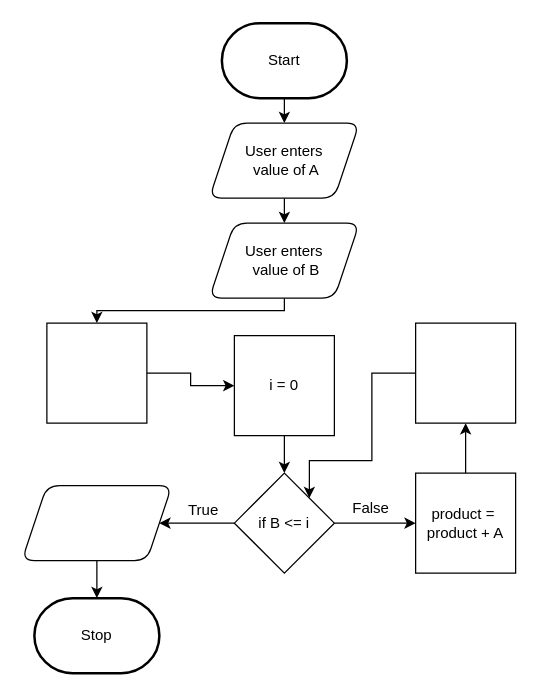
Some shapes in this 538 by 695 pixel diagram are drawn without their labels. Here are the shapes that lost their labels. From the top down, the centre of each, then its label:
pixel 96 372: product = 0
pixel 465 372: i = i + 1
pixel 96 522: Show: product
